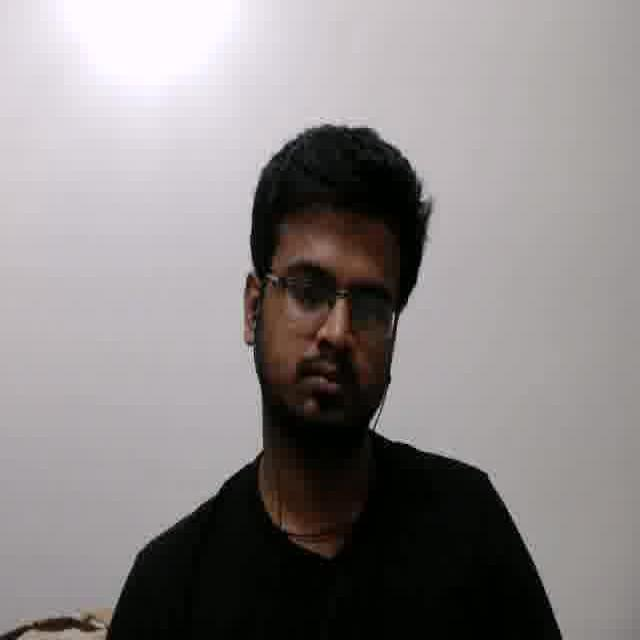Boredom: (260, 210, 391, 430)
